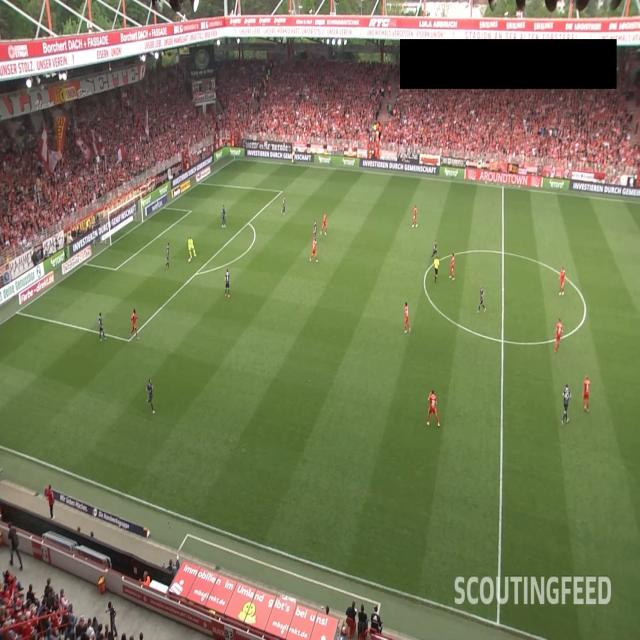ball: (188, 257, 191, 263)
